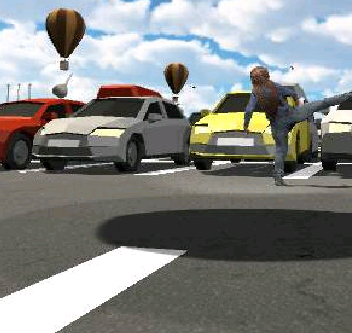turn_right: (244, 66, 351, 187)
